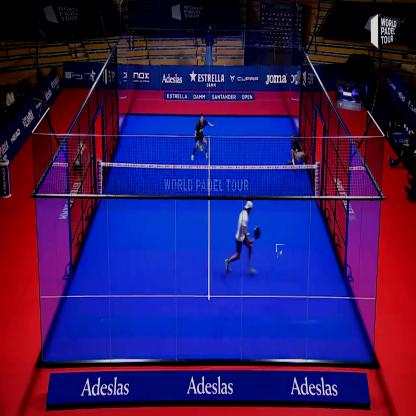ball: (277, 244, 286, 259)
